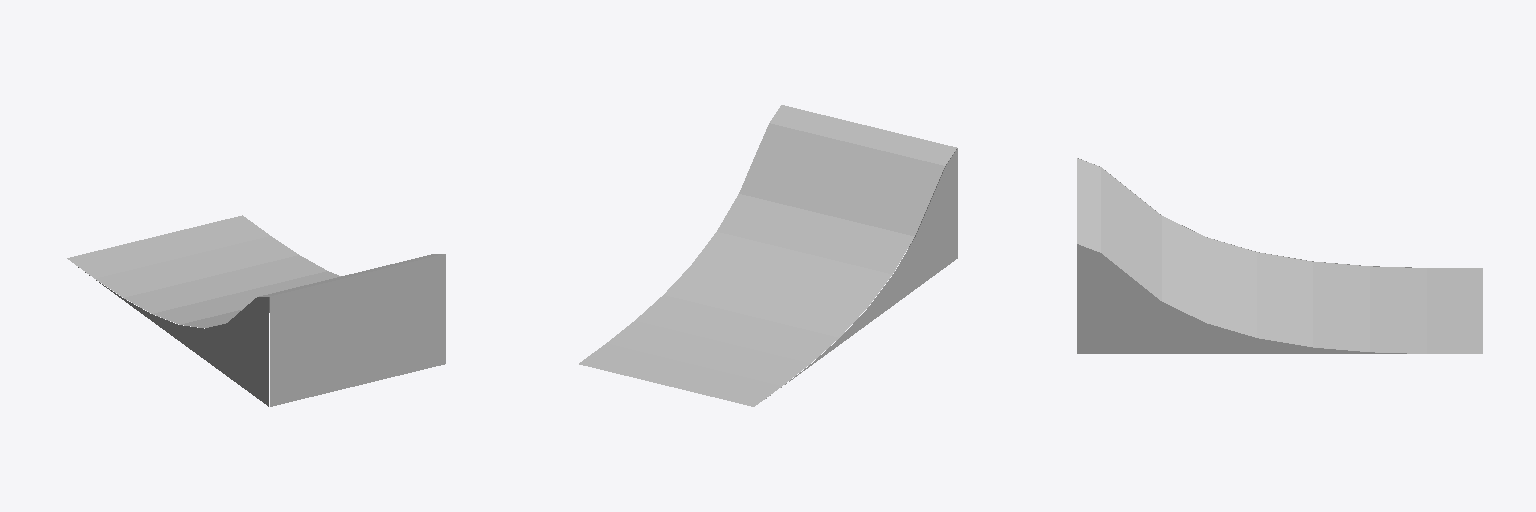
The model's file is Quater_SML_Trans_Half.obj.
3 views of the same model, side by side, from view 1: azimuth 30°, elevation 25°; view 2: azimuth 150°, elevation 25°; view 3: azimuth 270°, elevation 25° (orthographic).
Parts seen in each view (by area): view 1: Quater_SML_Trans_Half; view 2: Quater_SML_Trans_Half; view 3: Quater_SML_Trans_Half.
Boxes of the visible parts, <box> form: Quater_SML_Trans_Half: <box>67,215,445,406</box>; Quater_SML_Trans_Half: <box>579,105,957,406</box>; Quater_SML_Trans_Half: <box>1077,158,1482,353</box>.
Bounding box in the file's own units: 5.01 × 3 × 10.